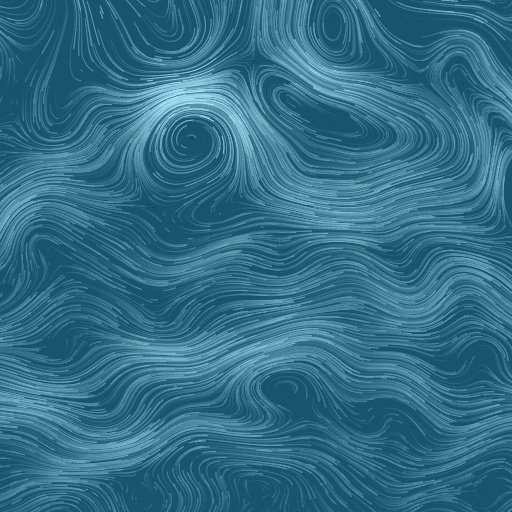eddy: (139, 95, 244, 194), (267, 75, 393, 152), (305, 1, 360, 61)
